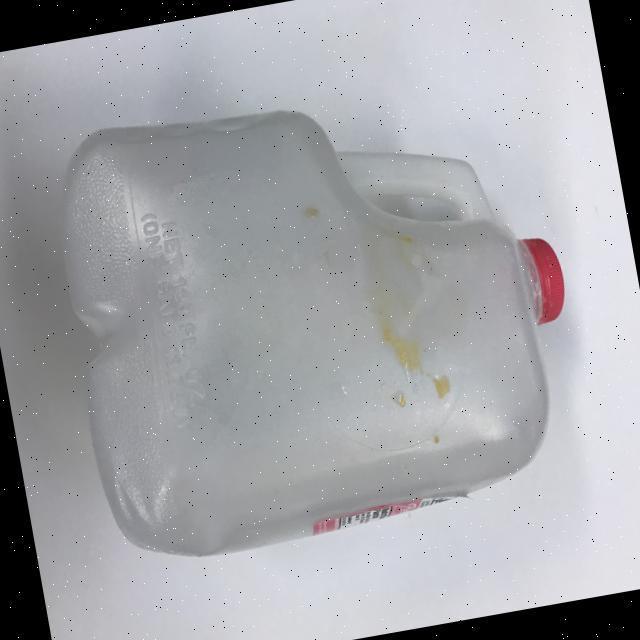plastic: (37, 52, 600, 572)
